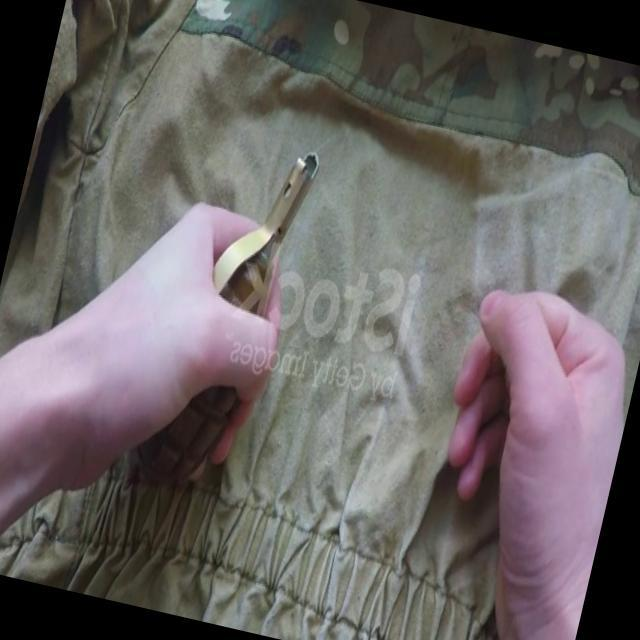grenade: (128, 131, 320, 503)
